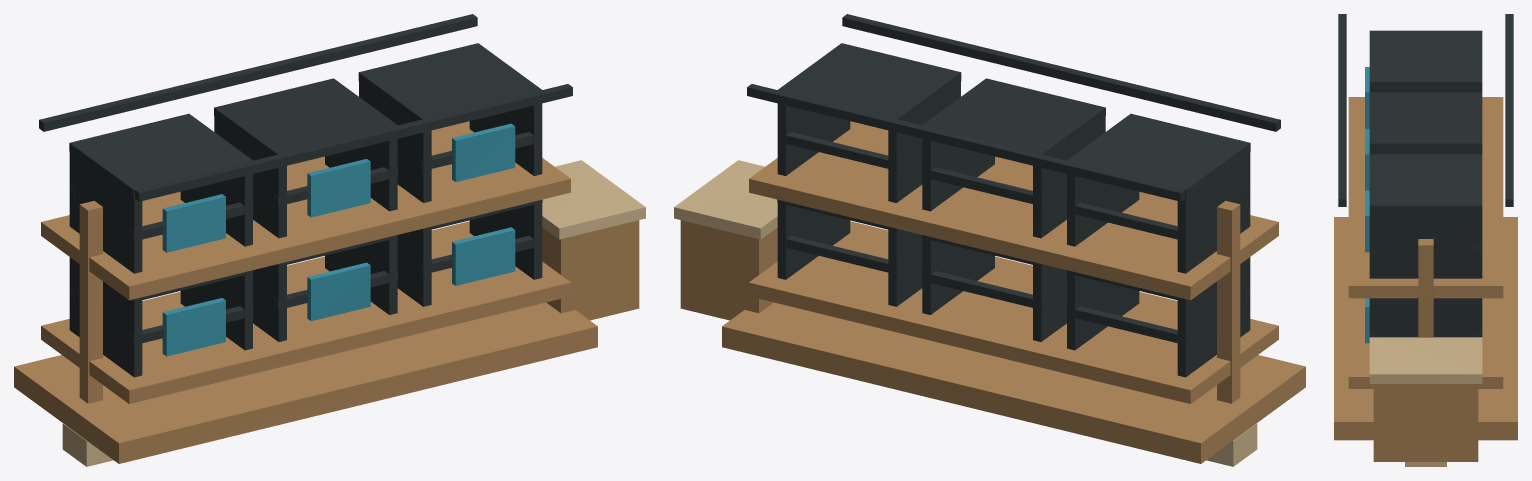
Rendered from crab-pots.source.glb.
3 renders of one model, left to right at view 1: azimuth 30°, elevation 25°; view 2: azimuth 150°, elevation 25°; view 3: azimuth 270°, elevation 25°, orthographic. The views are drawn at different scales.
Parts seen in each view (by area): view 1: crab-pots-narrow-timber-service-deck-mesh, crab-pots-pot-shelf-1.05-mesh, crab-pots-pot-shelf-2.25-mesh, crab-pots-pot-2.75--1.75-top-mesh, crab-pots-pot-2.75-1.75-top-mesh, crab-pots-pot-2.75-0-top-mesh, crab-pots-locked-gear-box-mesh, crab-pots-slim-service-rail--1-mesh, crab-pots-slim-service-rail-1-mesh, crab-pots-cream-gear-box-lid-mesh, crab-pots-pot-2.75--1.75-side--0.67-mesh, crab-pots-tall-rack-post--2.6-mesh (+18 smaller); view 2: crab-pots-narrow-timber-service-deck-mesh, crab-pots-pot-shelf-1.05-mesh, crab-pots-pot-shelf-2.25-mesh, crab-pots-pot-2.75--1.75-top-mesh, crab-pots-pot-2.75-1.75-top-mesh, crab-pots-pot-2.75-0-top-mesh, crab-pots-locked-gear-box-mesh, crab-pots-slim-service-rail-1-mesh, crab-pots-slim-service-rail--1-mesh, crab-pots-cream-gear-box-lid-mesh, crab-pots-pot-2.75--1.75-side--0.67-mesh, crab-pots-tall-rack-post--2.6-mesh (+18 smaller); view 3: crab-pots-pot-shelf-2.25-mesh, crab-pots-narrow-timber-service-deck-mesh, crab-pots-locked-gear-box-mesh, crab-pots-pot-2.75-1.75-side-0.67-mesh, crab-pots-pot-2.75-0-top-mesh, crab-pots-pot-2.75--1.75-top-mesh, crab-pots-pot-2.75-1.75-top-mesh, crab-pots-cream-gear-box-lid-mesh, crab-pots-pot-shelf-1.05-mesh, crab-pots-pot-1.55-1.75-side-0.67-mesh, crab-pots-slim-service-rail--1-mesh, crab-pots-slim-service-rail-1-mesh (+9 smaller).
Boxes of the visible parts, x1=… form: crab-pots-narrow-timber-service-deck-mesh: x1=14, y1=302, x2=597, y2=463; crab-pots-pot-shelf-1.05-mesh: x1=41, y1=221, x2=570, y2=403; crab-pots-pot-shelf-2.25-mesh: x1=41, y1=121, x2=570, y2=300; crab-pots-pot-2.75--1.75-top-mesh: x1=69, y1=113, x2=252, y2=198; crab-pots-pot-2.75-1.75-top-mesh: x1=358, y1=43, x2=541, y2=121; crab-pots-pot-2.75-0-top-mesh: x1=214, y1=78, x2=397, y2=156; crab-pots-locked-gear-box-mesh: x1=542, y1=220, x2=639, y2=320; crab-pots-slim-service-rail--1-mesh: x1=39, y1=14, x2=477, y2=131; crab-pots-slim-service-rail-1-mesh: x1=134, y1=84, x2=572, y2=201; crab-pots-cream-gear-box-lid-mesh: x1=542, y1=160, x2=645, y2=239; crab-pots-pot-2.75--1.75-side--0.67-mesh: x1=69, y1=152, x2=142, y2=273; crab-pots-tall-rack-post--2.6-mesh: x1=79, y1=200, x2=102, y2=403; crab-pots-narrow-timber-service-deck-mesh: x1=722, y1=302, x2=1305, y2=463; crab-pots-pot-shelf-1.05-mesh: x1=749, y1=221, x2=1278, y2=403; crab-pots-pot-shelf-2.25-mesh: x1=749, y1=121, x2=1278, y2=300; crab-pots-pot-2.75--1.75-top-mesh: x1=1067, y1=113, x2=1250, y2=198; crab-pots-pot-2.75-1.75-top-mesh: x1=778, y1=43, x2=961, y2=121; crab-pots-pot-2.75-0-top-mesh: x1=922, y1=78, x2=1105, y2=156; crab-pots-locked-gear-box-mesh: x1=680, y1=220, x2=777, y2=320; crab-pots-slim-service-rail-1-mesh: x1=842, y1=14, x2=1280, y2=131; crab-pots-slim-service-rail--1-mesh: x1=747, y1=84, x2=1185, y2=201; crab-pots-cream-gear-box-lid-mesh: x1=674, y1=160, x2=777, y2=239; crab-pots-pot-2.75--1.75-side--0.67-mesh: x1=1177, y1=152, x2=1250, y2=273; crab-pots-tall-rack-post--2.6-mesh: x1=1217, y1=200, x2=1240, y2=403; crab-pots-pot-shelf-2.25-mesh: x1=1348, y1=97, x2=1503, y2=298; crab-pots-narrow-timber-service-deck-mesh: x1=1334, y1=217, x2=1517, y2=440; crab-pots-locked-gear-box-mesh: x1=1373, y1=384, x2=1478, y2=461; crab-pots-pot-2.75-1.75-side-0.67-mesh: x1=1369, y1=213, x2=1482, y2=278; crab-pots-pot-2.75-0-top-mesh: x1=1369, y1=92, x2=1482, y2=151; crab-pots-pot-2.75--1.75-top-mesh: x1=1369, y1=30, x2=1482, y2=89; crab-pots-pot-2.75-1.75-top-mesh: x1=1369, y1=154, x2=1482, y2=212; crab-pots-cream-gear-box-lid-mesh: x1=1369, y1=337, x2=1482, y2=383; crab-pots-pot-shelf-1.05-mesh: x1=1348, y1=298, x2=1503, y2=388; crab-pots-pot-1.55-1.75-side-0.67-mesh: x1=1369, y1=304, x2=1482, y2=337; crab-pots-slim-service-rail--1-mesh: x1=1505, y1=14, x2=1513, y2=206; crab-pots-slim-service-rail-1-mesh: x1=1338, y1=14, x2=1346, y2=206.
Bounding box in the file's own units: 6.63 × 3.45 × 2.2.
